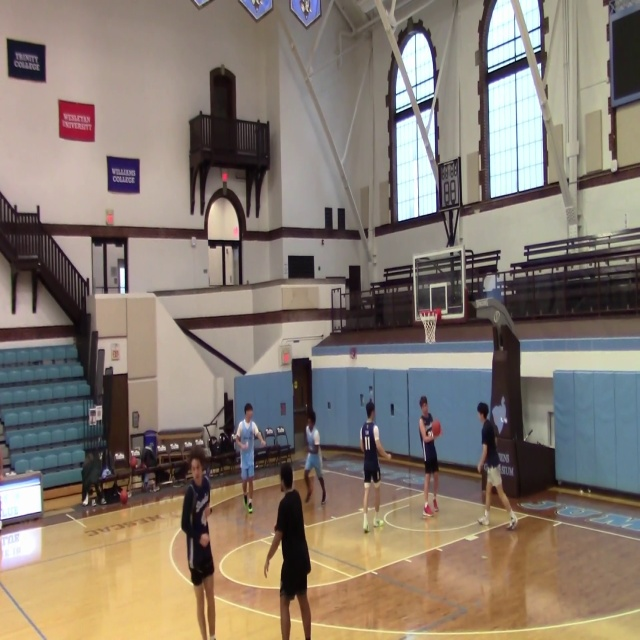Basketball: (431, 420, 441, 437), (120, 490, 128, 504), (129, 456, 138, 467), (374, 519, 383, 527)
